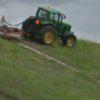Tractor: (23, 3, 84, 49)
